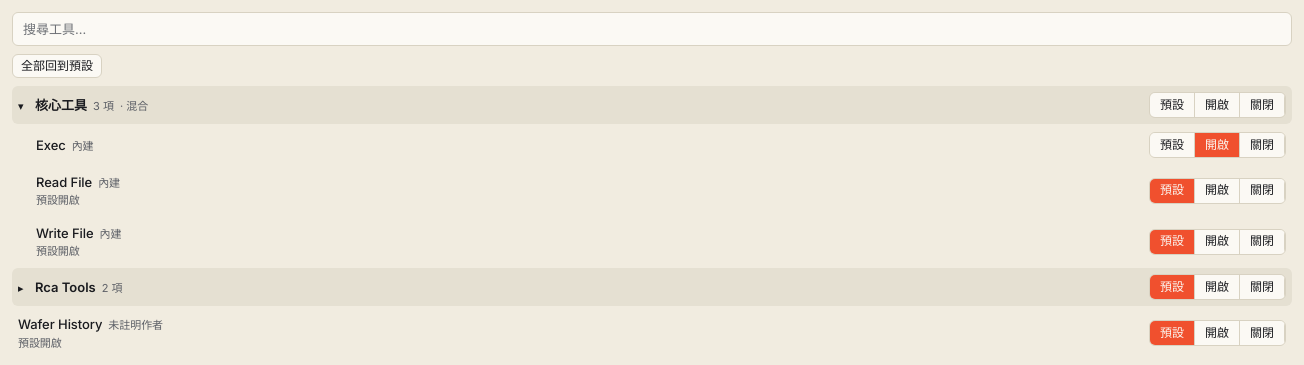
Test: ToolsChecklist folds — what a search change restores › a fold made uniform during a search shuts once the search is cleared — the mixed set is re-taken, not grown
The image size is (1304, 365).
Type "exec" into the field with test id "tools-search" at (652, 29), box [12,12,1292,46]
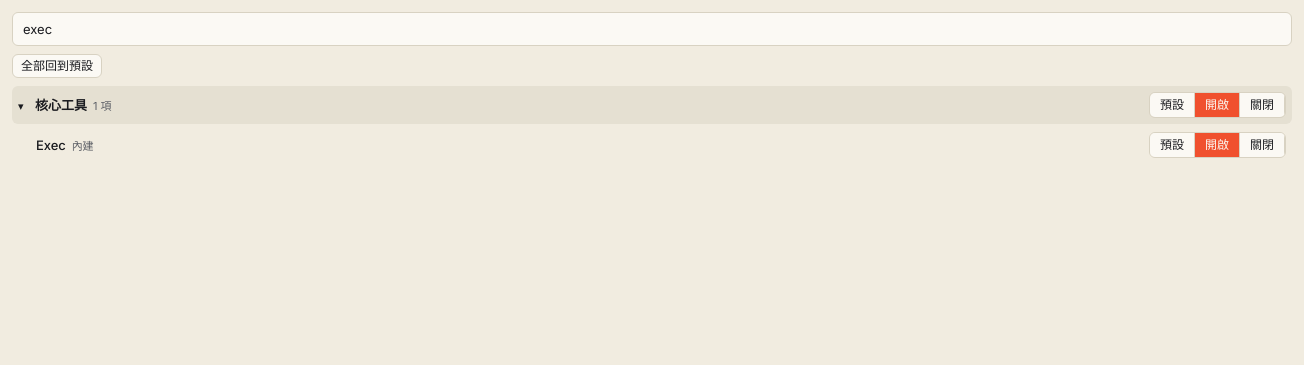
Click the button with test id "tool-exec-follow" at (1172, 145), box [1150,133,1195,157]
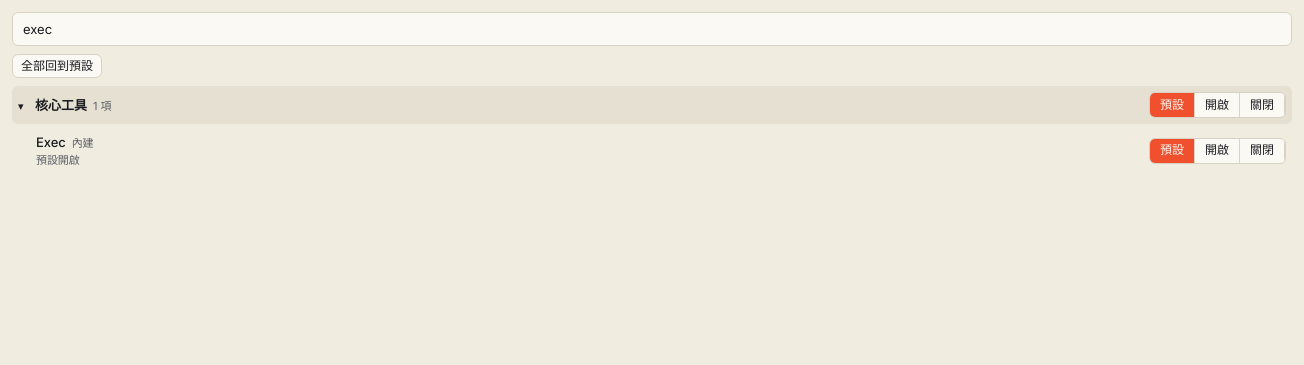
Clear the field with test id "tools-search" at (652, 29), box [12,12,1292,46]
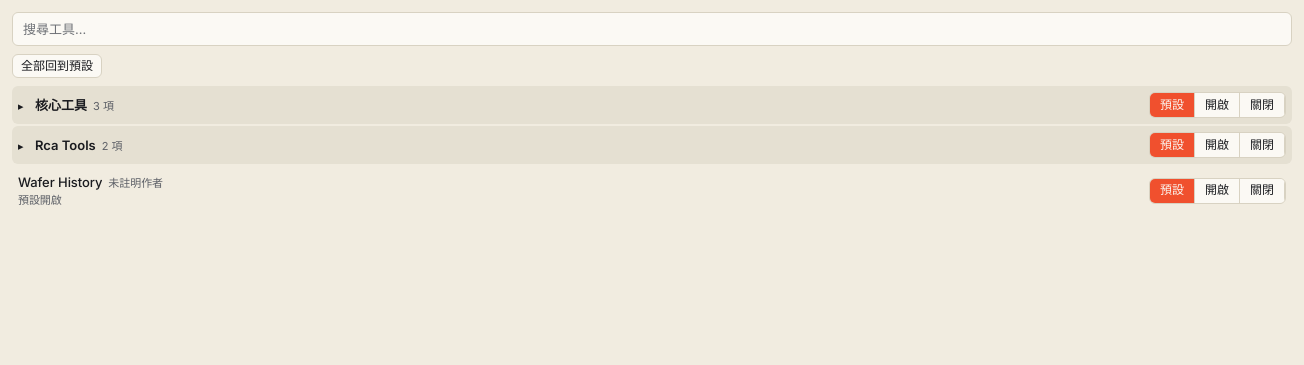
Now the button with test id "tool-group-header-builtin" is collapsed, box [18,95,1139,115]
